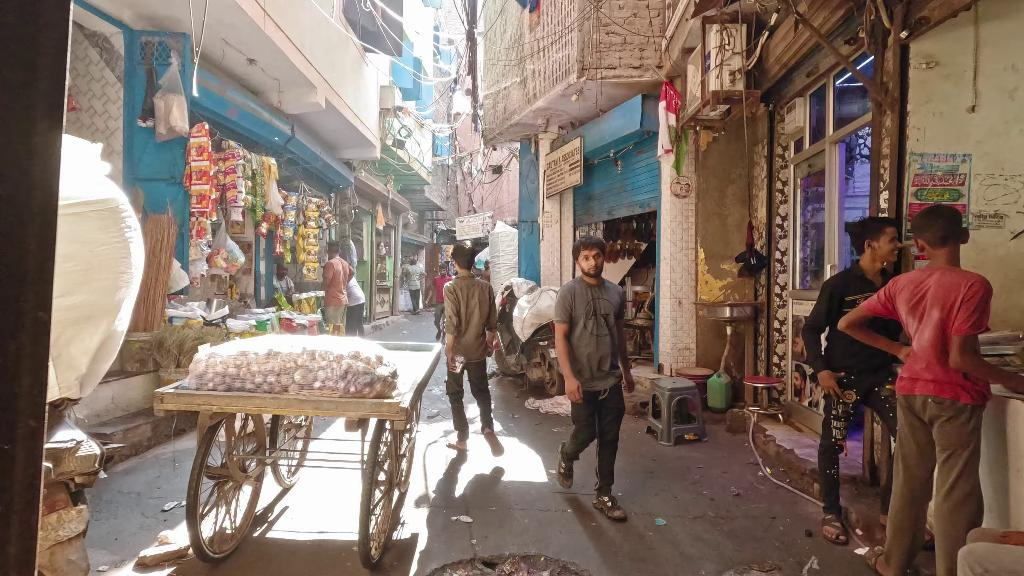garbage: (527, 393, 573, 417), (449, 513, 476, 533), (655, 512, 675, 528)
